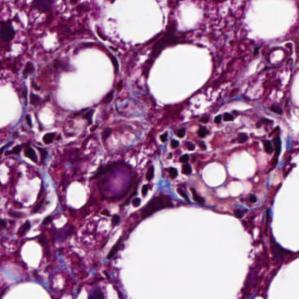inflammation: (150, 126, 216, 182), (236, 114, 290, 166), (9, 122, 64, 164), (126, 181, 160, 214)
